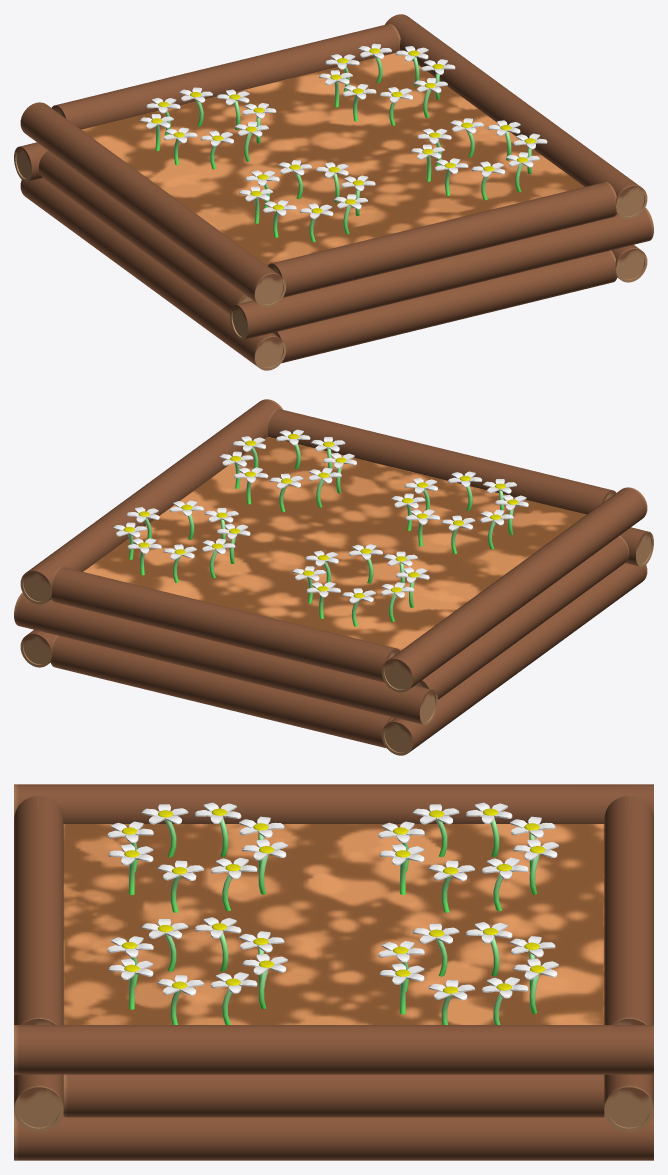
The picture shows the model from 3 angles, top to bottom: view 1: azimuth 30°, elevation 25°; view 2: azimuth 150°, elevation 25°; view 3: azimuth 270°, elevation 25°; orthographic projection. The views are drawn at different scales.
Visible parts, largest first — view 1: Cylinder.015, Cube.063, Cube.062, Cube.060, Cube.061; view 2: Cylinder.015, Cube.060, Cube.062, Cube.061, Cube.063; view 3: Cylinder.015, Cube.061, Cube.062, Cube.060, Cube.063.
Part boxes in pixels (x1=…): Cylinder.015: x1=14, y1=14, x2=653, y2=370; Cube.063: x1=319, y1=43, x2=455, y2=125; Cube.062: x1=140, y1=87, x2=276, y2=169; Cube.060: x1=411, y1=118, x2=547, y2=200; Cube.061: x1=239, y1=160, x2=375, y2=241; Cylinder.015: x1=14, y1=399, x2=653, y2=755; Cube.060: x1=219, y1=429, x2=356, y2=511; Cube.062: x1=292, y1=544, x2=429, y2=626; Cube.061: x1=391, y1=471, x2=528, y2=553; Cube.063: x1=113, y1=500, x2=250, y2=582; Cylinder.015: x1=14, y1=784, x2=653, y2=1160; Cube.061: x1=107, y1=802, x2=287, y2=912; Cube.062: x1=378, y1=802, x2=558, y2=912; Cube.060: x1=107, y1=917, x2=287, y2=1024; Cube.063: x1=378, y1=922, x2=558, y2=1024.
Bounding box in the file's own units: 2.36 × 0.6109 × 2.36.
5 materials, 3 textured.
